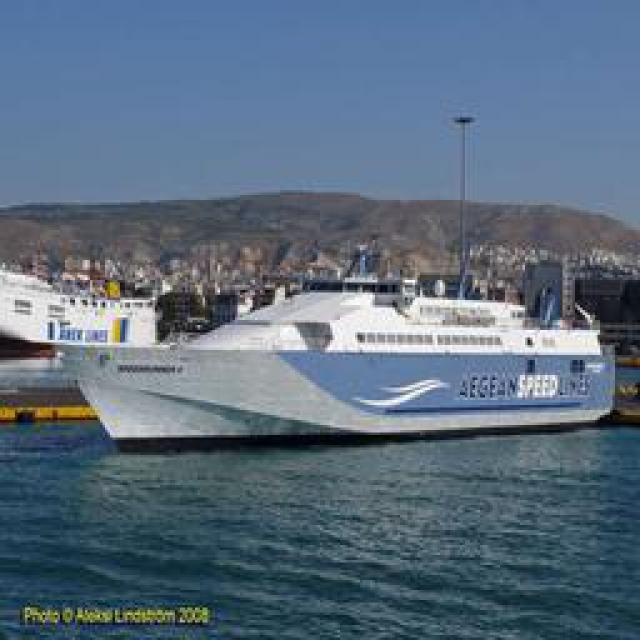Ship: (52, 261, 632, 449)
